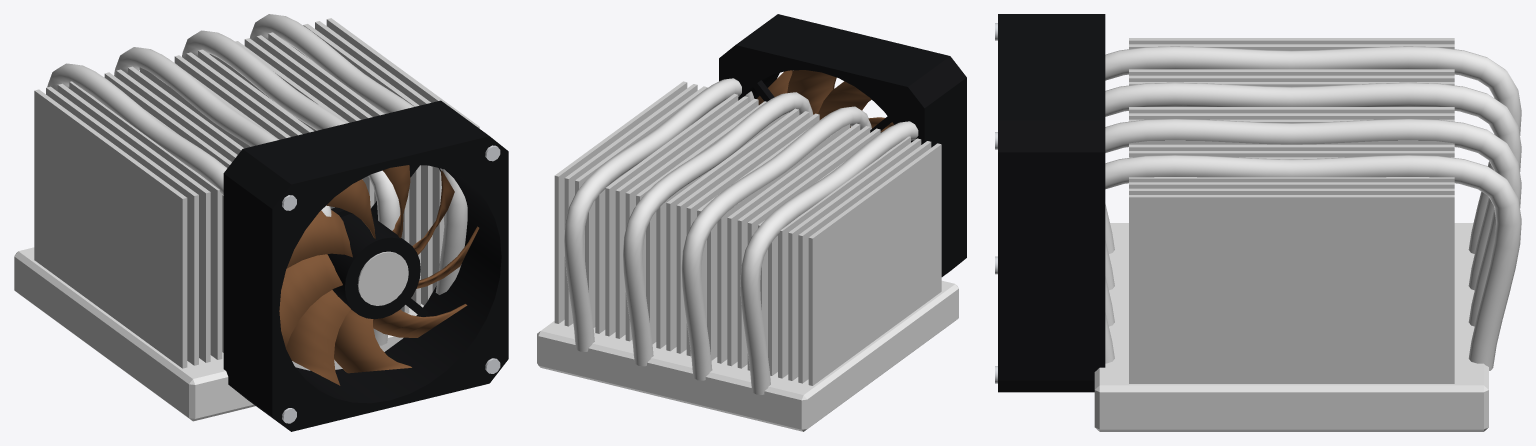
File: hw_cool_2u_active.glb
The picture shows the model from 3 angles, left to right: view 1: azimuth 30°, elevation 25°; view 2: azimuth 150°, elevation 25°; view 3: azimuth 270°, elevation 25°; orthographic projection. The views are drawn at different scales.
Visible parts, largest first — view 1: Body, Rotor_Z_0; view 2: Body, Rotor_Z_0; view 3: Body.
Boxes of the visible parts, x1,y1,x2,y2 form: Body: (14, 14, 508, 431); Rotor_Z_0: (279, 165, 479, 385); Body: (537, 14, 966, 431); Rotor_Z_0: (757, 70, 893, 132); Body: (995, 14, 1521, 431).
Size of the model in its own units: 0.092 by 0.073 by 0.1229.
